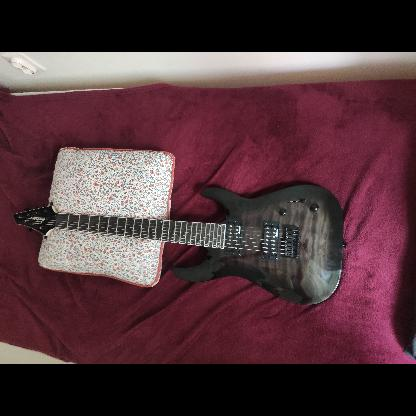guitar: (10, 182, 344, 312)
